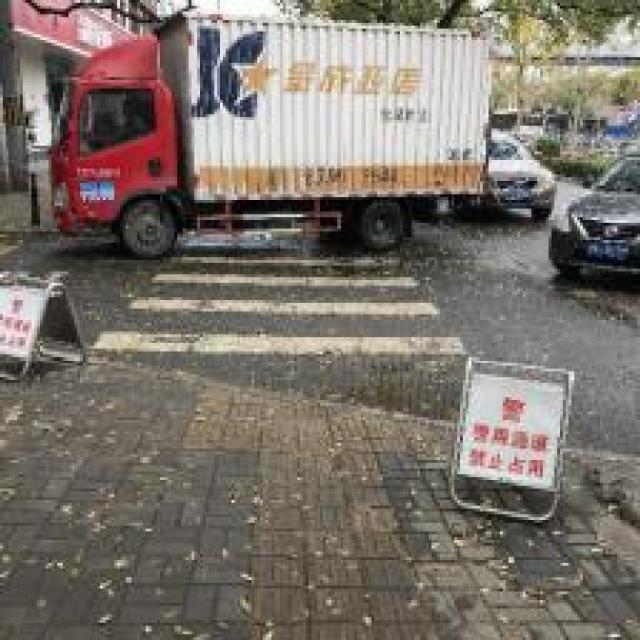crosswalk: (93, 228, 482, 380)
